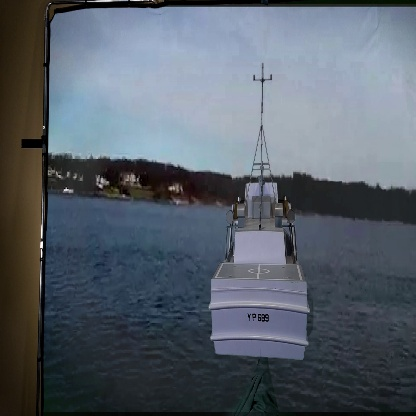YP689: (209, 70, 311, 362)
